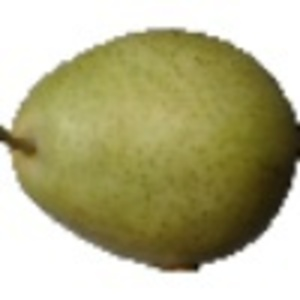pera: (1, 27, 300, 276)
